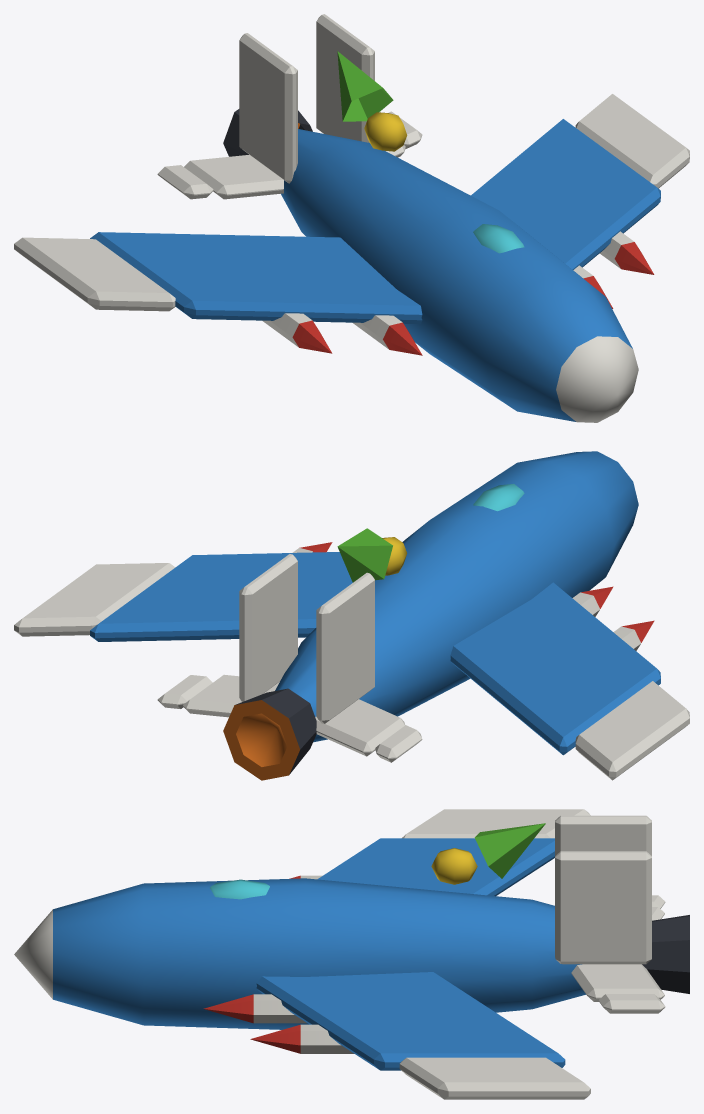
3 views of the same model, one above another, from view 1: azimuth 30°, elevation 25°; view 2: azimuth 150°, elevation 25°; view 3: azimuth 270°, elevation 25° (orthographic). The views are drawn at different scales.
Parts seen in each view (by area): view 1: as_0_base; view 2: as_0_base; view 3: as_0_base.
Part boxes in pixels (<box>): as_0_base: <box>14,14,689,422</box>; as_0_base: <box>14,451,689,780</box>; as_0_base: <box>14,809,689,1099</box>.
Bounding box in the file's own units: 1.17 × 0.3929 × 1.2.
